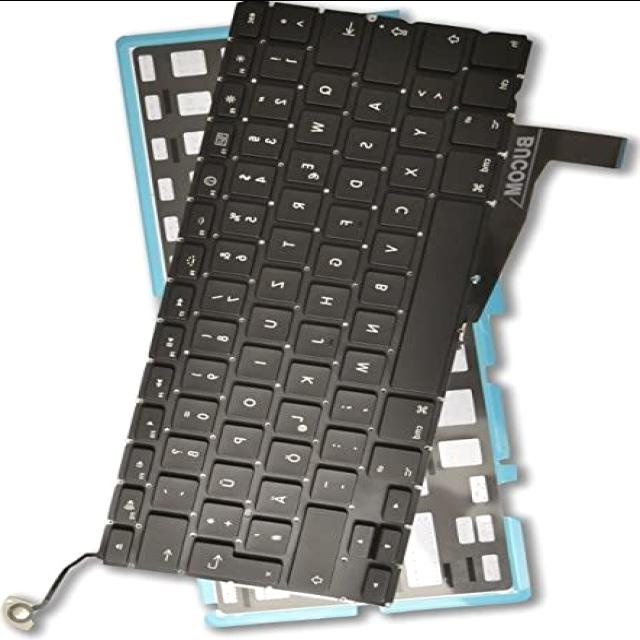0: (167, 395, 215, 431)
1: (255, 42, 301, 77)
2: (245, 80, 293, 116)
3: (236, 119, 282, 155)
4: (226, 159, 272, 195)
5: (216, 197, 262, 233)
6: (207, 236, 252, 272)
7: (196, 277, 244, 312)
8: (187, 316, 233, 352)
9: (175, 354, 223, 391)
a: (349, 84, 394, 120)
accent: (146, 472, 194, 508)
ae: (251, 477, 297, 515)
alt-left: (446, 107, 506, 145)
altgr-right: (365, 445, 423, 487)
b: (353, 267, 401, 304)
c: (375, 189, 423, 226)
caret: (264, 2, 312, 38)
comma: (324, 386, 372, 421)
d: (329, 163, 377, 199)
del: (134, 511, 184, 570)
e: (281, 146, 327, 183)
enter: (181, 537, 278, 582)
f: (320, 202, 365, 238)
g: (309, 242, 357, 278)
h: (300, 280, 346, 316)
hash: (241, 516, 287, 552)
i: (232, 342, 277, 377)
j: (290, 319, 336, 354)
k: (280, 360, 326, 395)
keyboard: (87, 1, 541, 613)
l: (269, 398, 317, 436)
less: (404, 72, 450, 107)
m: (335, 346, 381, 381)
minus: (306, 464, 352, 500)
n: (345, 307, 391, 342)
o: (222, 381, 268, 417)
oe: (261, 438, 309, 474)
p: (212, 422, 260, 457)
plus: (191, 499, 239, 535)
point: (316, 425, 362, 462)
q: (300, 68, 346, 105)
r: (271, 186, 319, 221)
s: (340, 124, 385, 160)
shift-left: (413, 23, 471, 69)
shift-lock: (358, 15, 412, 81)
shift-right: (282, 501, 342, 593)
space: (380, 191, 480, 393)
ss: (157, 433, 203, 471)
strg-left: (459, 68, 519, 106)
t: (261, 225, 307, 260)
tab: (310, 8, 362, 64)
u: (242, 303, 288, 338)
ue: (201, 460, 249, 498)
v: (365, 229, 411, 265)
w: (290, 106, 336, 142)
x: (385, 151, 430, 186)
y: (394, 112, 440, 148)
z: (252, 264, 297, 298)
